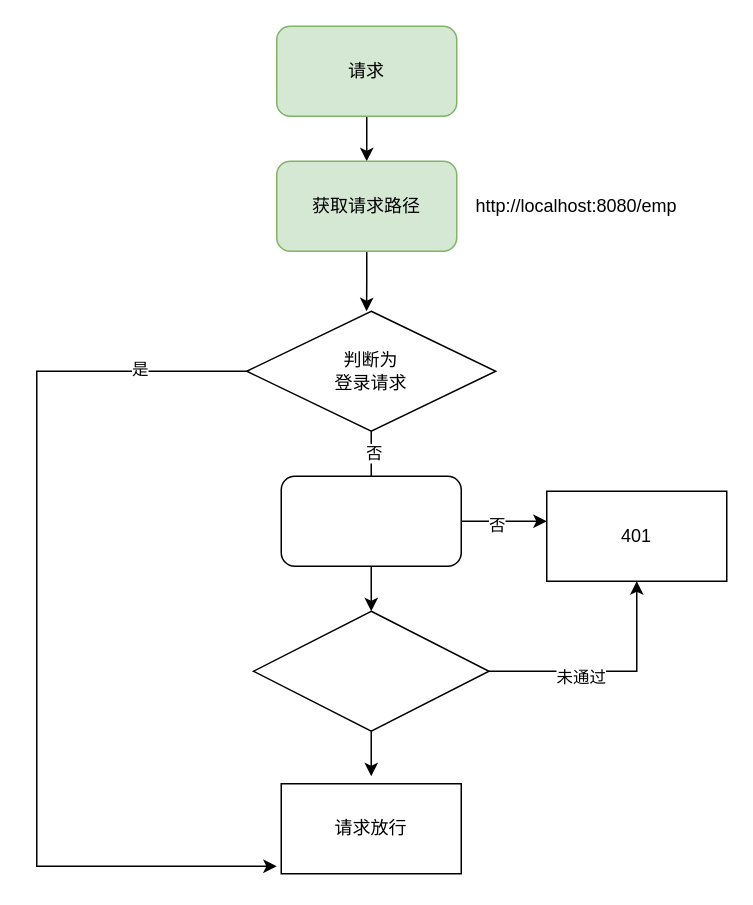
Image size: 753x905. Some labels were removed from this diagram. Each missing label, with the centre of its shape:
"校验token" goes at (370,670).
"获取请求头中 token" goes at (370,520).
